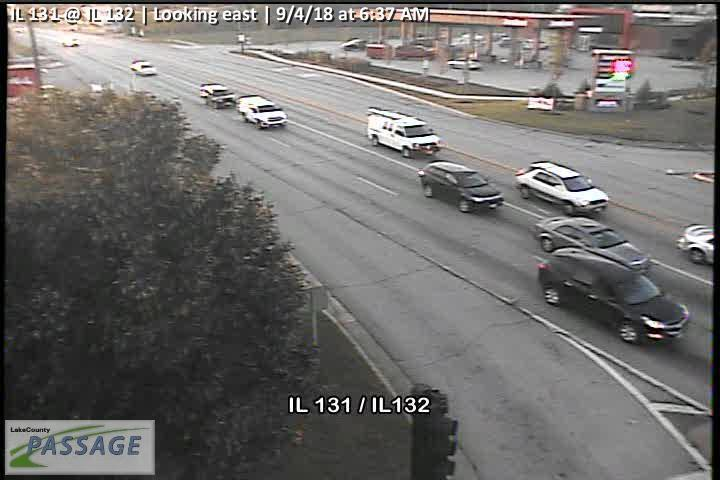SUV: (532, 243, 690, 345), (513, 159, 611, 215), (418, 160, 504, 214), (365, 107, 442, 160), (236, 95, 287, 131), (201, 84, 236, 108), (130, 58, 157, 76)
Sedan: (533, 214, 650, 279)
